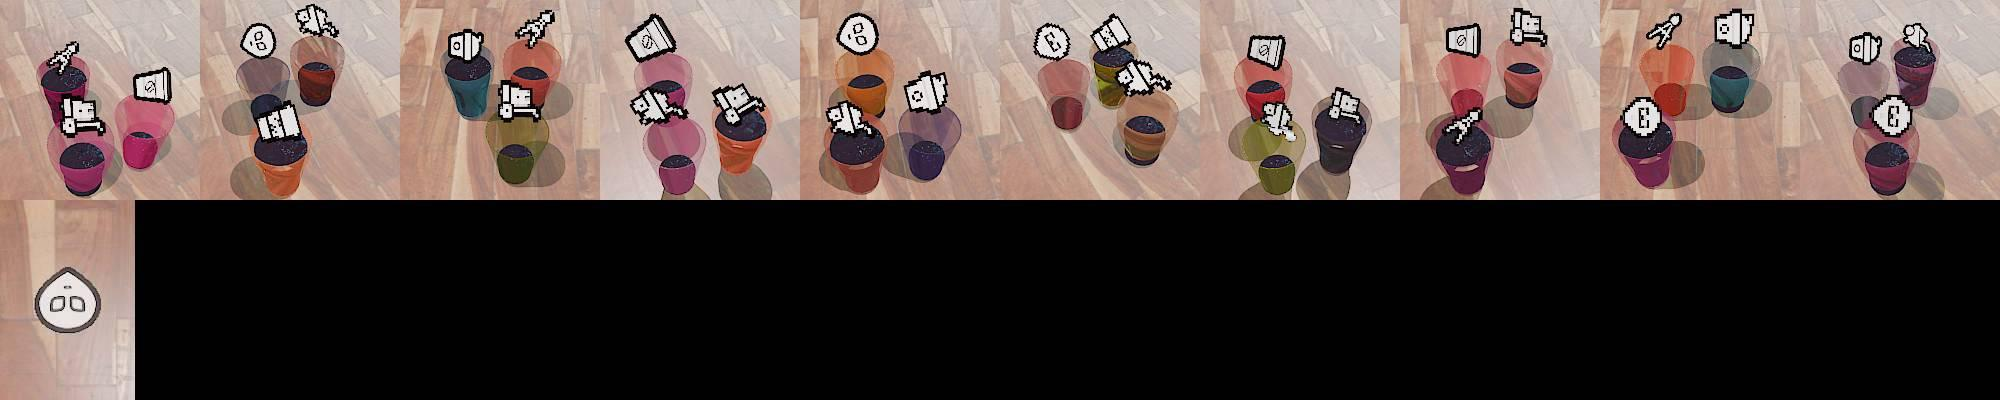icon: (32, 266, 103, 334), (624, 14, 676, 64), (710, 82, 767, 127), (629, 82, 685, 126), (1116, 57, 1175, 98), (903, 69, 952, 113), (255, 101, 302, 145), (59, 94, 107, 138), (1619, 96, 1665, 139), (835, 11, 879, 56), (496, 80, 542, 122), (1870, 94, 1913, 138), (1088, 13, 1133, 55), (1713, 8, 1755, 48), (514, 9, 556, 50), (825, 99, 871, 136), (131, 66, 173, 106), (296, 3, 339, 41), (239, 22, 279, 61), (1444, 106, 1485, 145), (1509, 6, 1547, 47), (1259, 97, 1296, 139), (1033, 22, 1070, 61), (1247, 33, 1286, 70), (1647, 11, 1684, 50), (446, 28, 486, 64), (1445, 23, 1481, 60), (1849, 31, 1884, 65), (46, 41, 80, 75), (1328, 87, 1361, 122), (1902, 22, 1932, 54)
